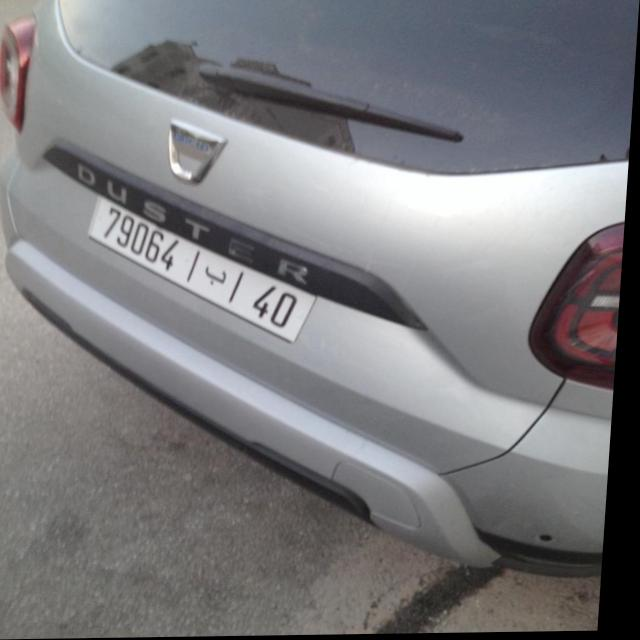License-Plate: (93, 197, 319, 343)
